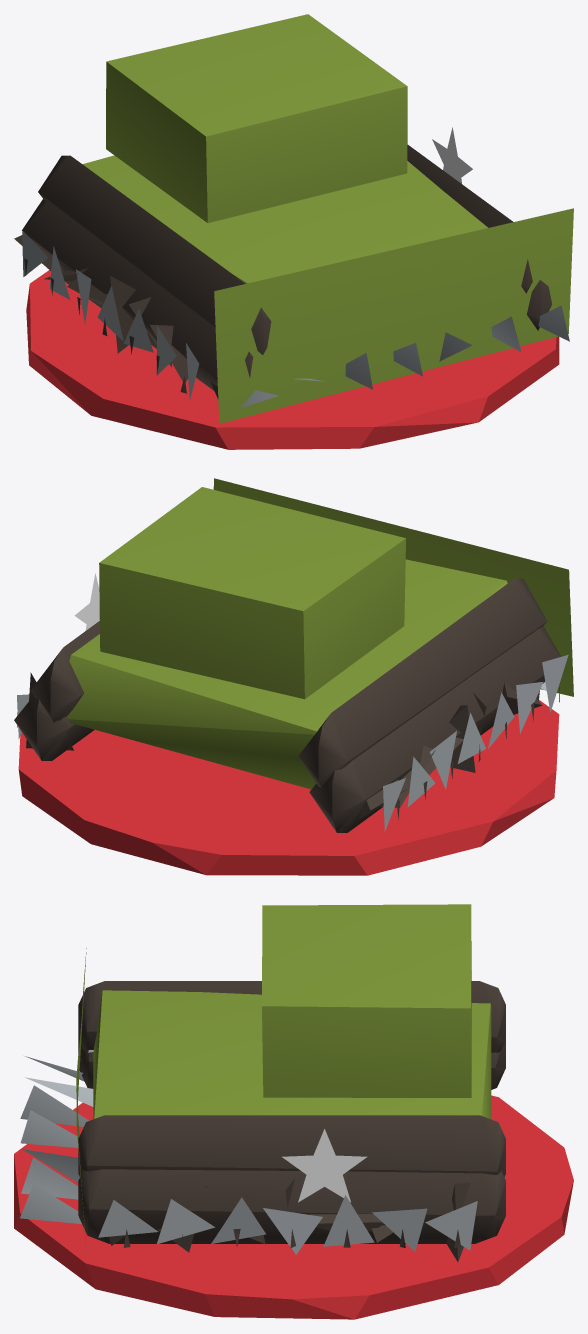
The model's file is usa_engineer_lod1.glb.
3 views of the same model, one above another, from view 1: azimuth 30°, elevation 25°; view 2: azimuth 150°, elevation 25°; view 3: azimuth 270°, elevation 25° (orthographic). The views are drawn at different scales.
Parts seen in each view (by area): view 1: body_hull, base_pedestal; view 2: body_hull, base_pedestal; view 3: body_hull, base_pedestal.
Part boxes in pixels (<box>): body_hull: <box>14,14,573,423</box>; base_pedestal: <box>26,270,559,449</box>; body_hull: <box>14,478,573,832</box>; base_pedestal: <box>18,700,559,875</box>; body_hull: <box>20,904,505,1262</box>; base_pedestal: <box>14,1095,573,1319</box>.
Bounding box in the file's own units: 0.7751 × 0.3767 × 0.7751.
